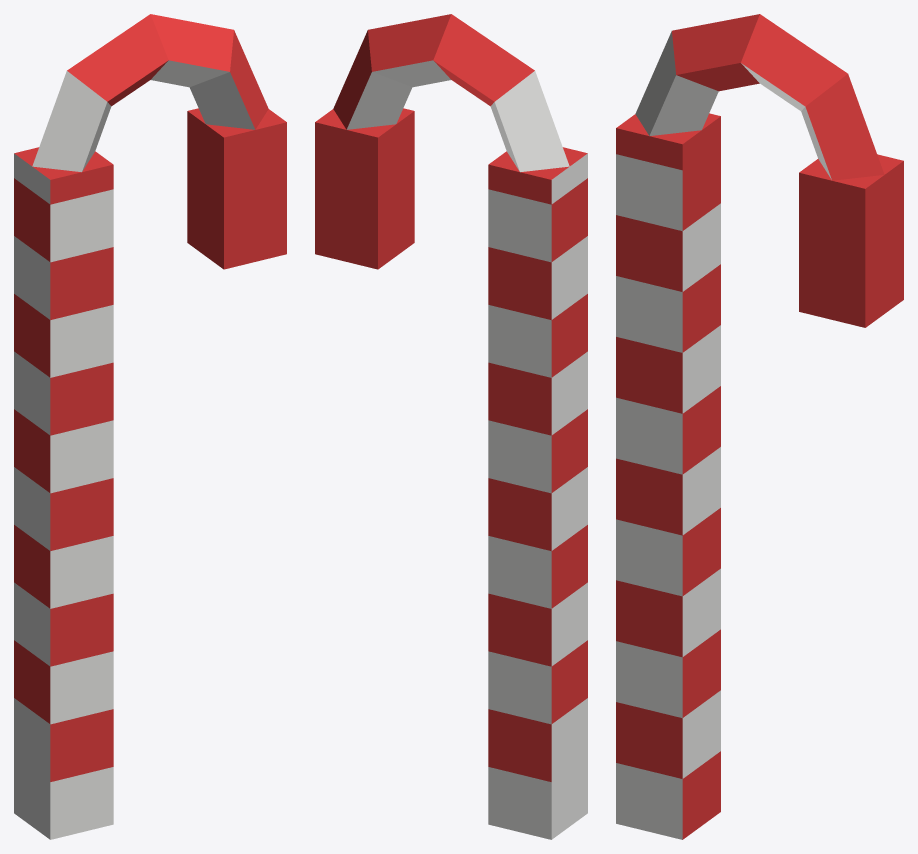
The model's file is CandyCaneDecor.fbx.
3 renders of one model, left to right at view 1: azimuth 30°, elevation 25°; view 2: azimuth 150°, elevation 25°; view 3: azimuth 330°, elevation 25°, orthographic. The views are drawn at different scales.
Parts seen in each view (by area): view 1: CandyCaneDecor; view 2: CandyCaneDecor; view 3: CandyCaneDecor.
Part boxes in pixels (box(x1,y1,x2,y2)): CandyCaneDecor: box(14, 14, 286, 839); CandyCaneDecor: box(315, 14, 587, 839); CandyCaneDecor: box(616, 14, 903, 839).
Size of the model in its own units: 1.5 by 4.75 by 0.4.
1 material, 1 textured.
